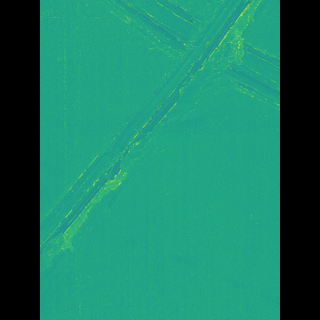Loch: (68, 0, 242, 286), (114, 0, 250, 112)
